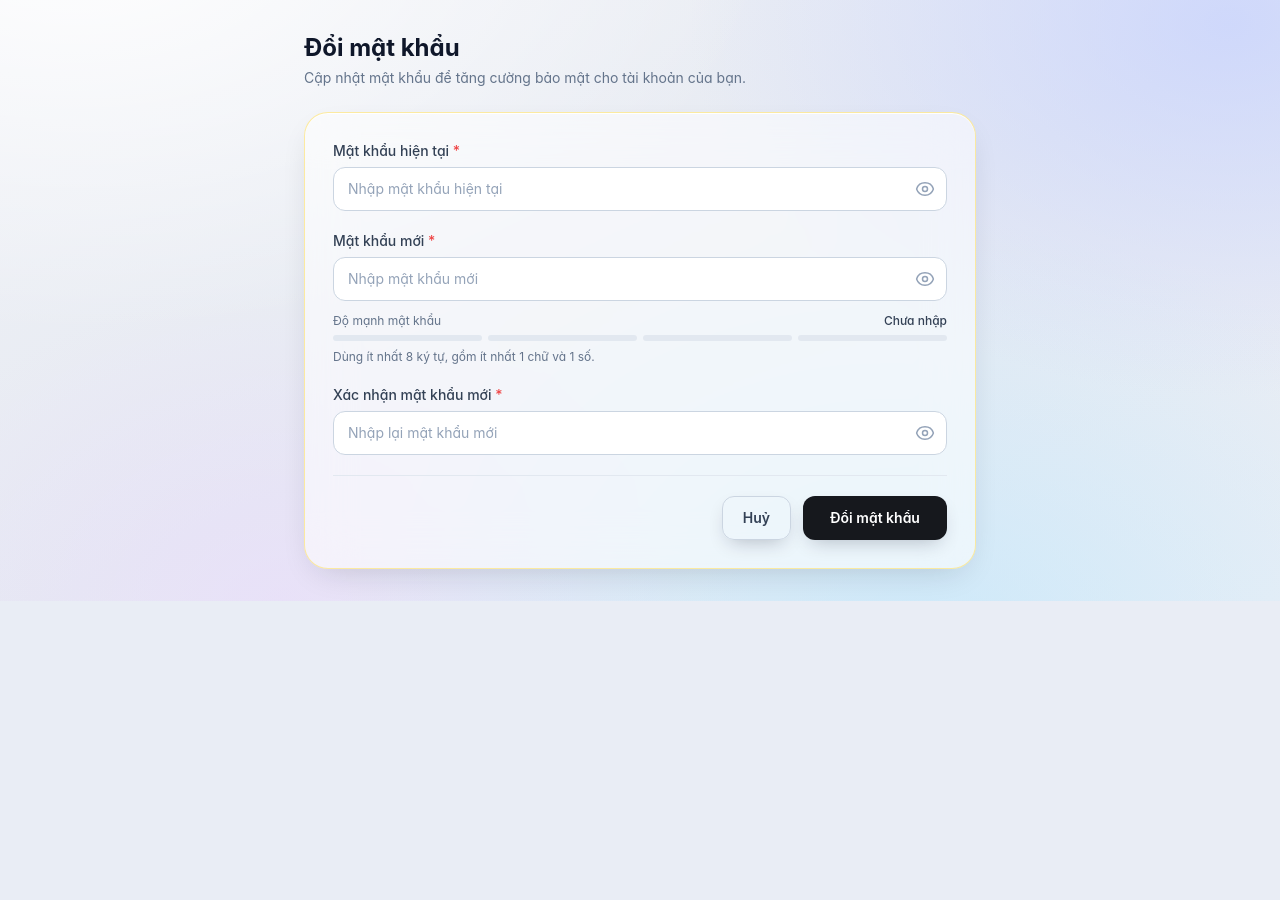
it: ChangePasswordPage › ánh xạ lỗi validation từ backend vào đúng ô nhập
Type "matKhauCu123" into the password field labelled "Mật khẩu hiện tại *". click: (640, 189)
box: [333,167,947,211]
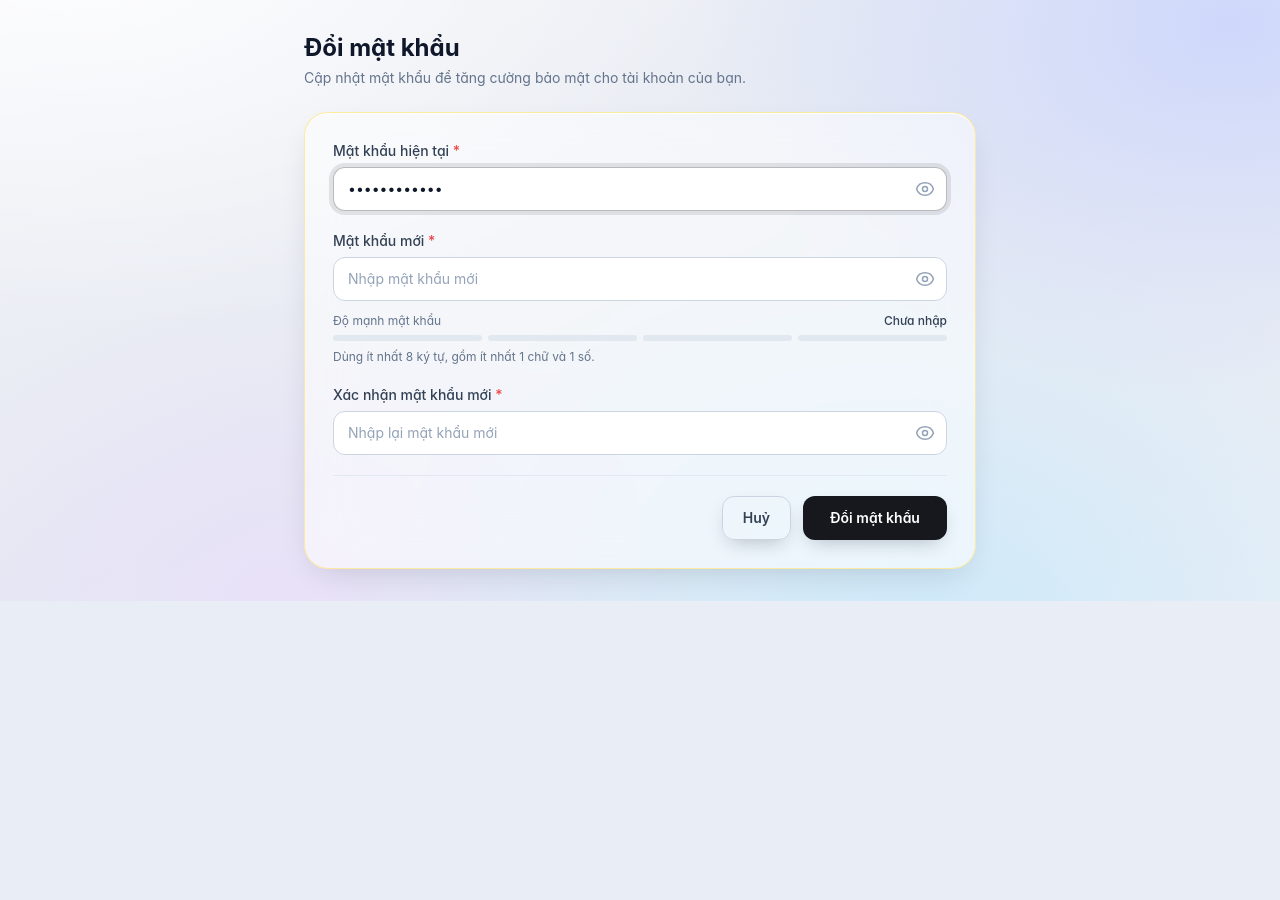
Type "matKhauMoi123" into the password field labelled "Mật khẩu mới *". click: (640, 279)
box: [333,257,947,301]
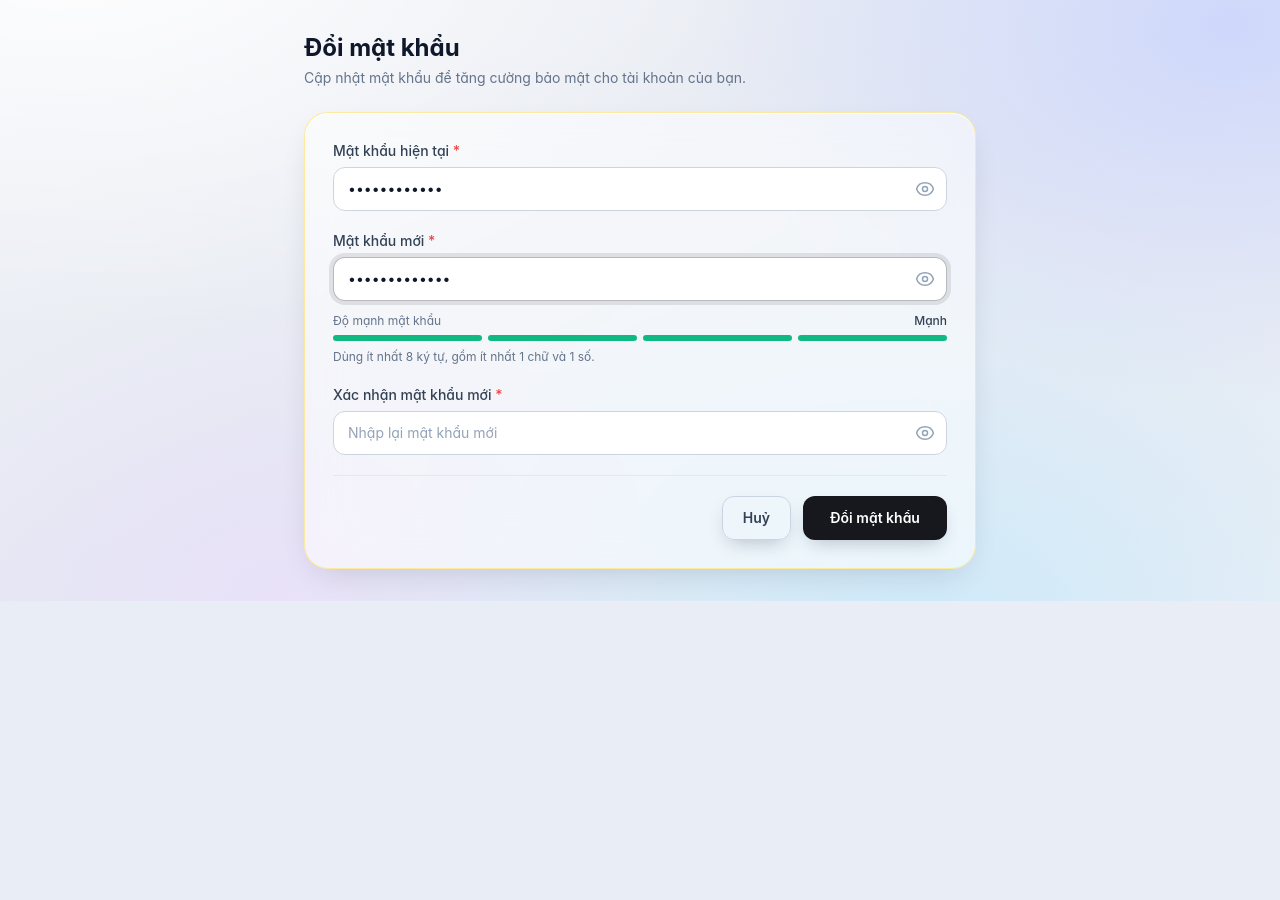
Type "matKhauMoi123" into the password field labelled "Xác nhận mật khẩu mới *". click: (640, 433)
box: [333,411,947,455]
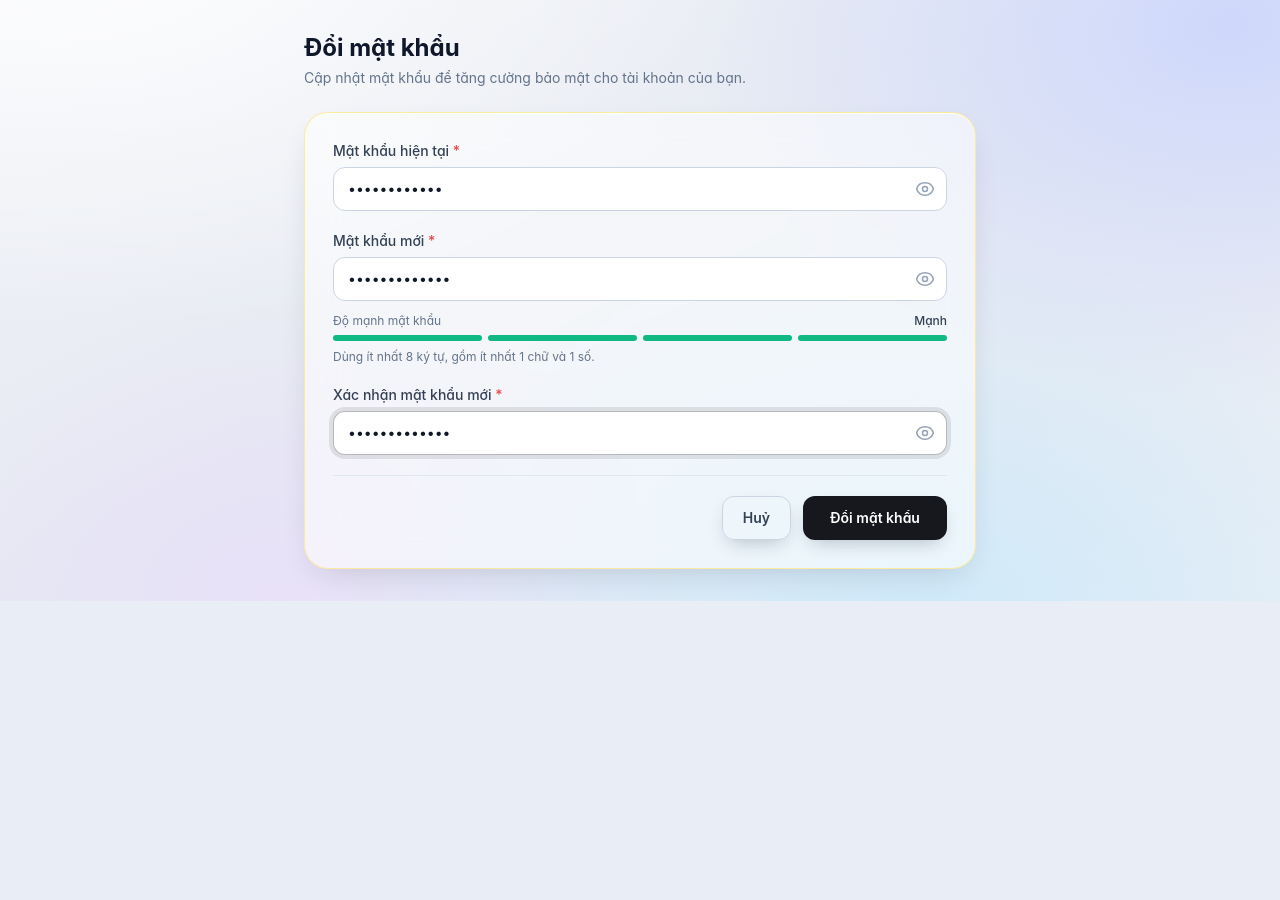
Click the button "Đổi mật khẩu". click: click(875, 518)
box: [803,496,947,540]
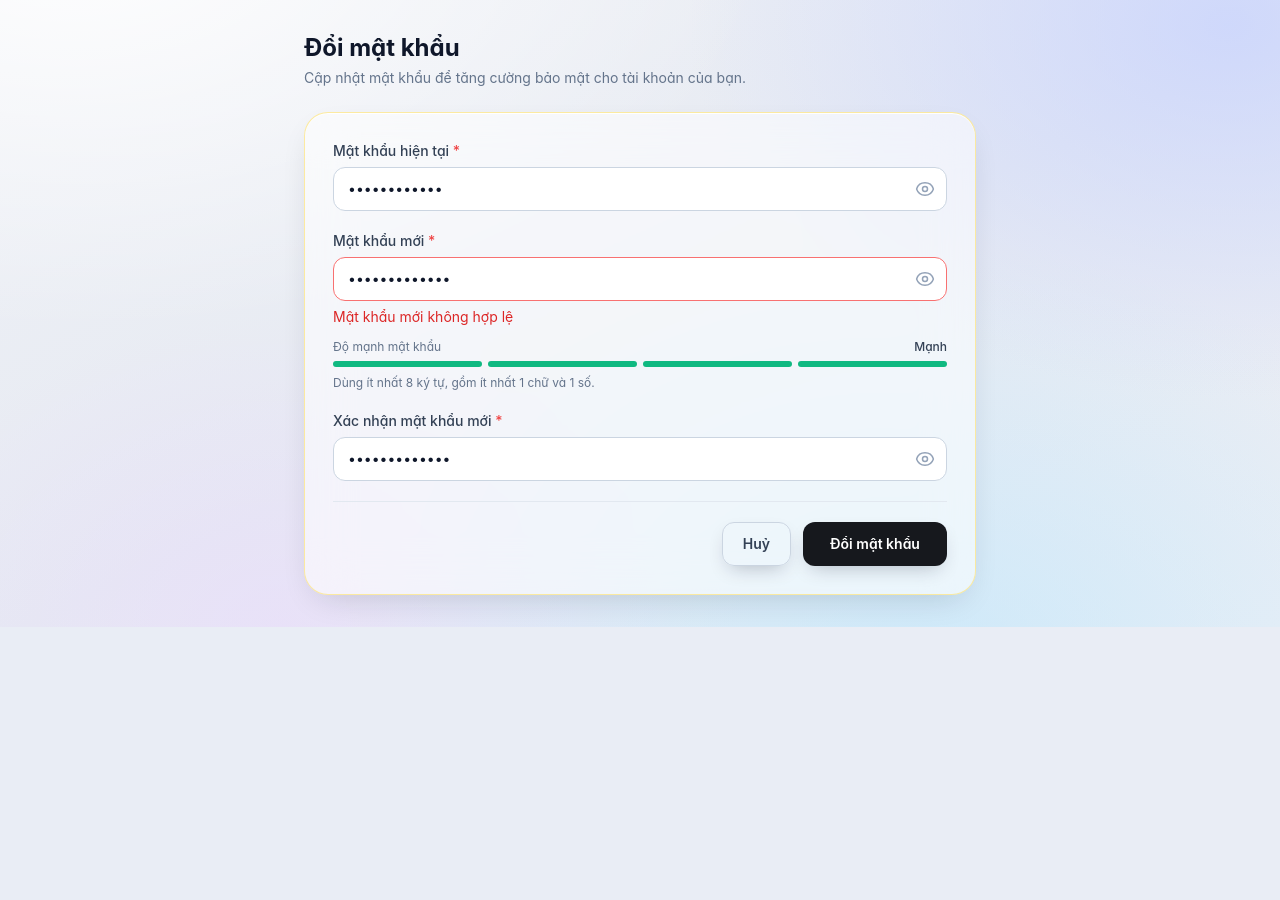
Now the text "Mật khẩu mới không hợp lệ" is shown, box [333,308,513,325]
